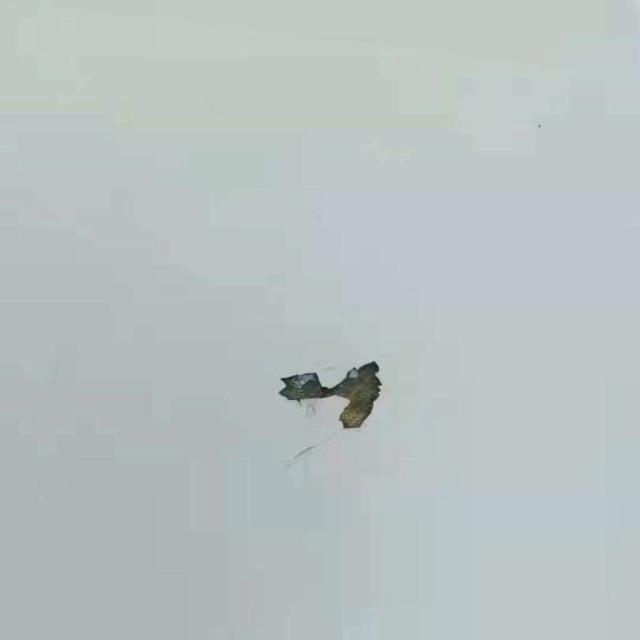surface_peeling: (272, 356, 388, 436)
